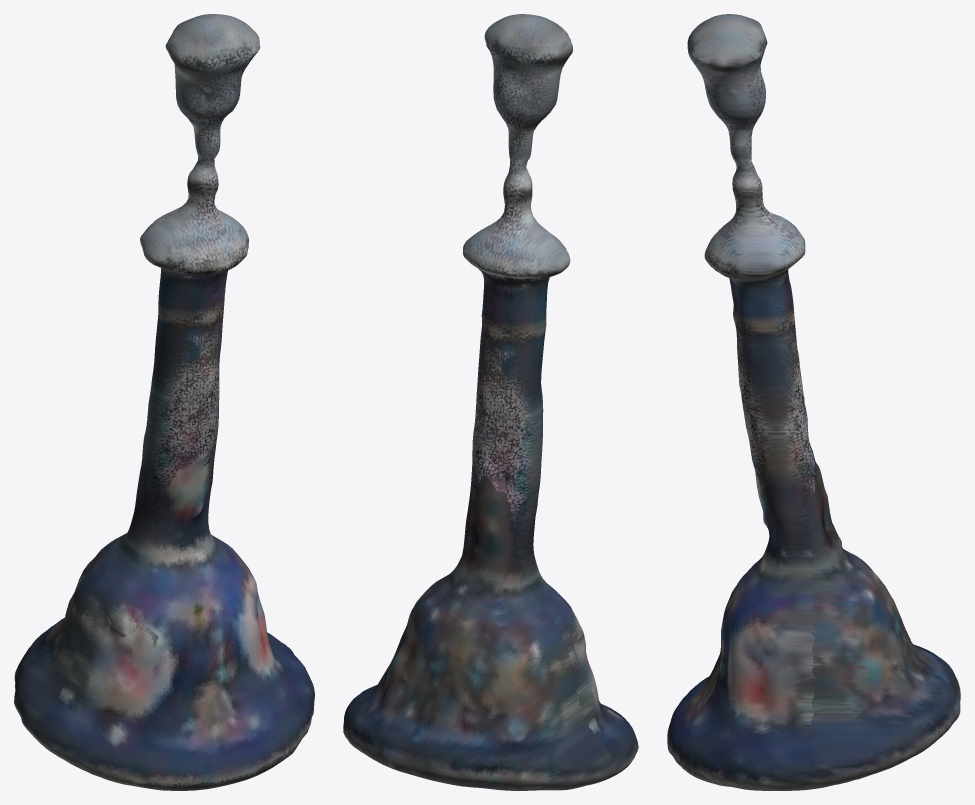
The model's file is kfl-2153.glb.
3 renders of one model, left to right at view 1: azimuth 30°, elevation 25°; view 2: azimuth 150°, elevation 25°; view 3: azimuth 270°, elevation 25°, orthographic. The views are drawn at different scales.
Parts seen in each view (by area): view 1: geometry_0; view 2: geometry_0; view 3: geometry_0.
Part boxes in pixels (x1,y1,x2,y2): geometry_0: [14, 14, 314, 790]; geometry_0: [343, 14, 638, 790]; geometry_0: [667, 14, 960, 790].
Bounding box in the file's own units: 0.366 × 0.9959 × 0.358.
1 material, 1 textured.
